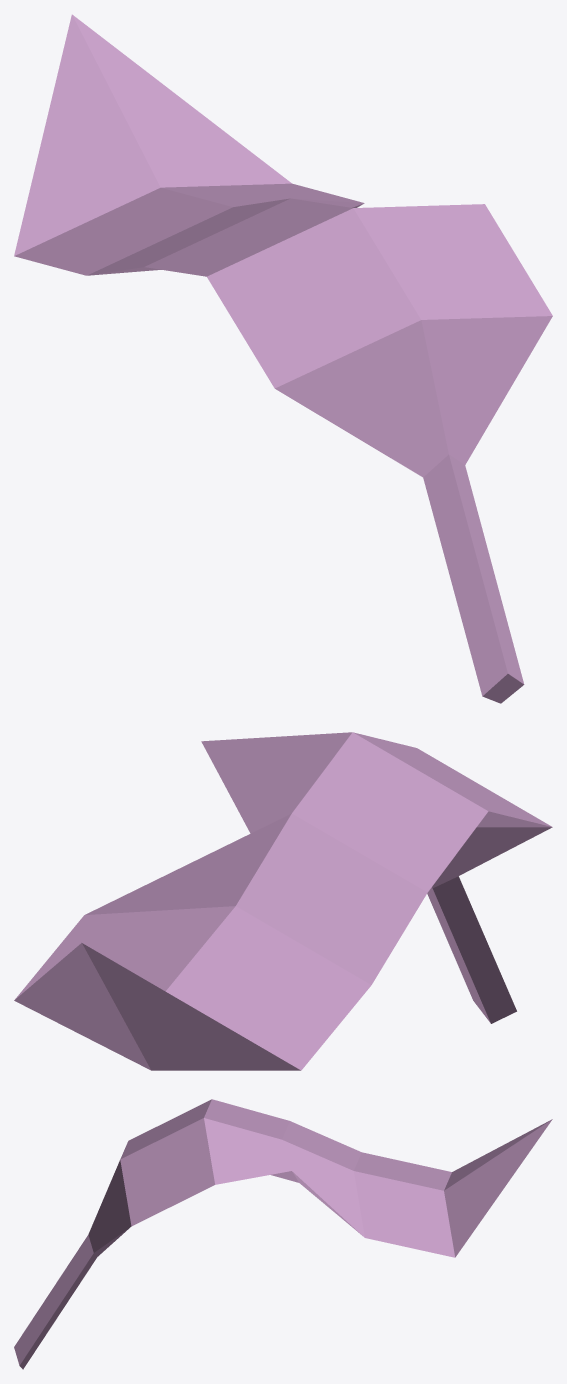
Rendered from Plume_Alpha.FBX.
3 views of the same model, one above another, from view 1: azimuth 30°, elevation 25°; view 2: azimuth 150°, elevation 25°; view 3: azimuth 270°, elevation 25° (orthographic). The views are drawn at different scales.
Parts seen in each view (by area): view 1: Plume005; view 2: Plume005; view 3: Plume005.
Part boxes in pixels (x1=…): Plume005: x1=14, y1=14, x2=552, y2=703; Plume005: x1=14, y1=732, x2=552, y2=1070; Plume005: x1=14, y1=1099, x2=552, y2=1369.
Bounding box in the file's own units: 98.17 × 128 × 251.
